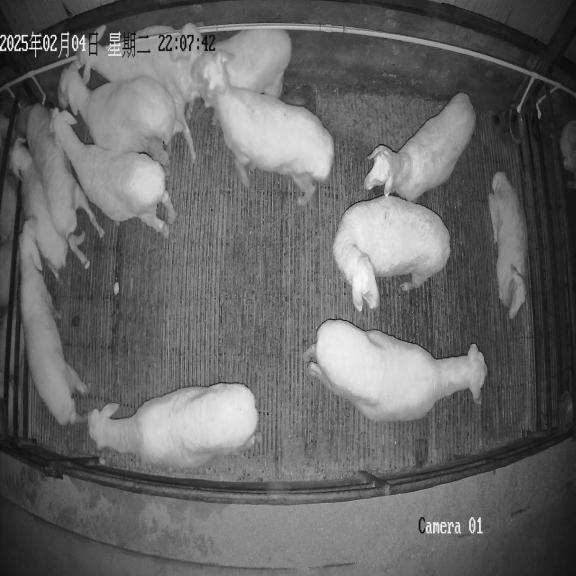lying: (489, 172, 528, 319)
stand: (192, 53, 333, 204), (304, 320, 487, 421), (52, 109, 175, 235), (89, 383, 262, 468), (19, 220, 89, 425), (333, 195, 450, 311), (364, 93, 476, 201)
